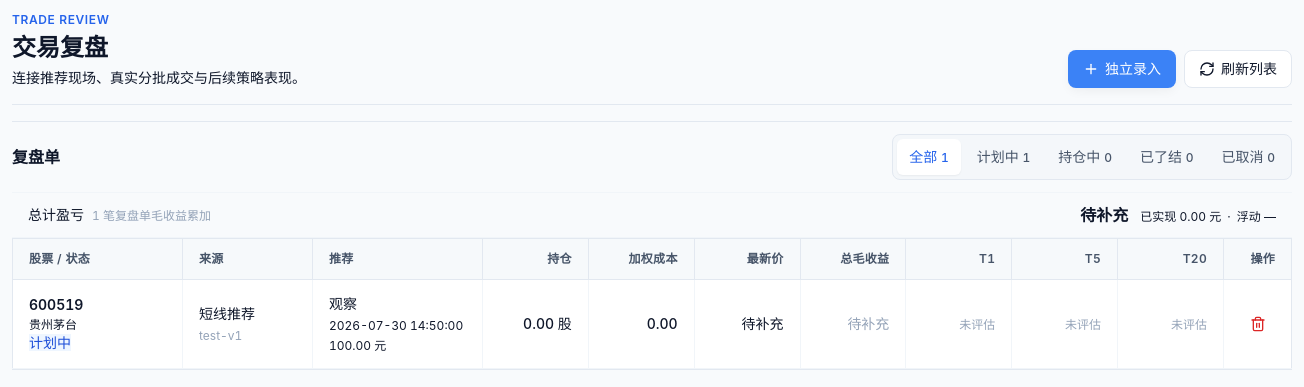
TradeReviewPage case removal › deletes a planned watched case from the review list after confirmation
Click the button named "删除关注 600519" at (1258, 324), box [1240,306,1276,342]
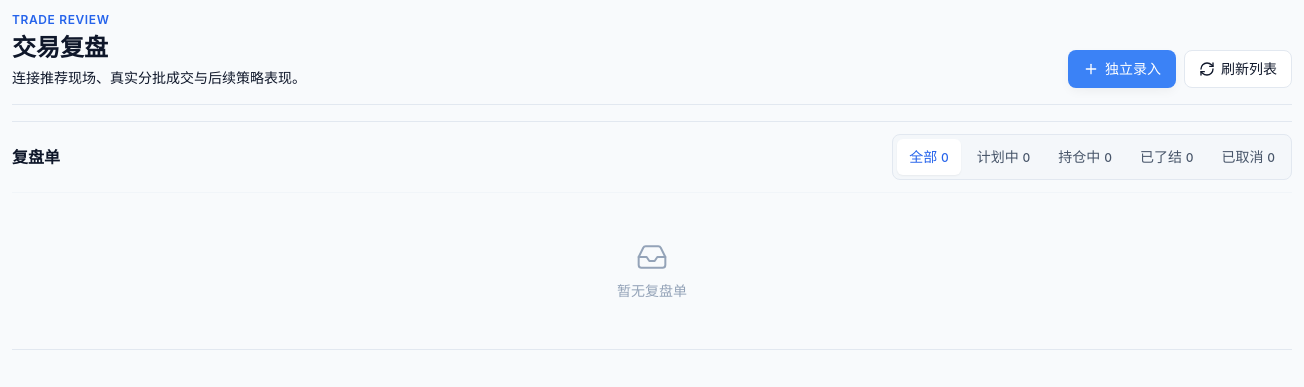
Now the text "600519" is gone
Now the text "暂无复盘单" is shown, box [617,281,687,301]
